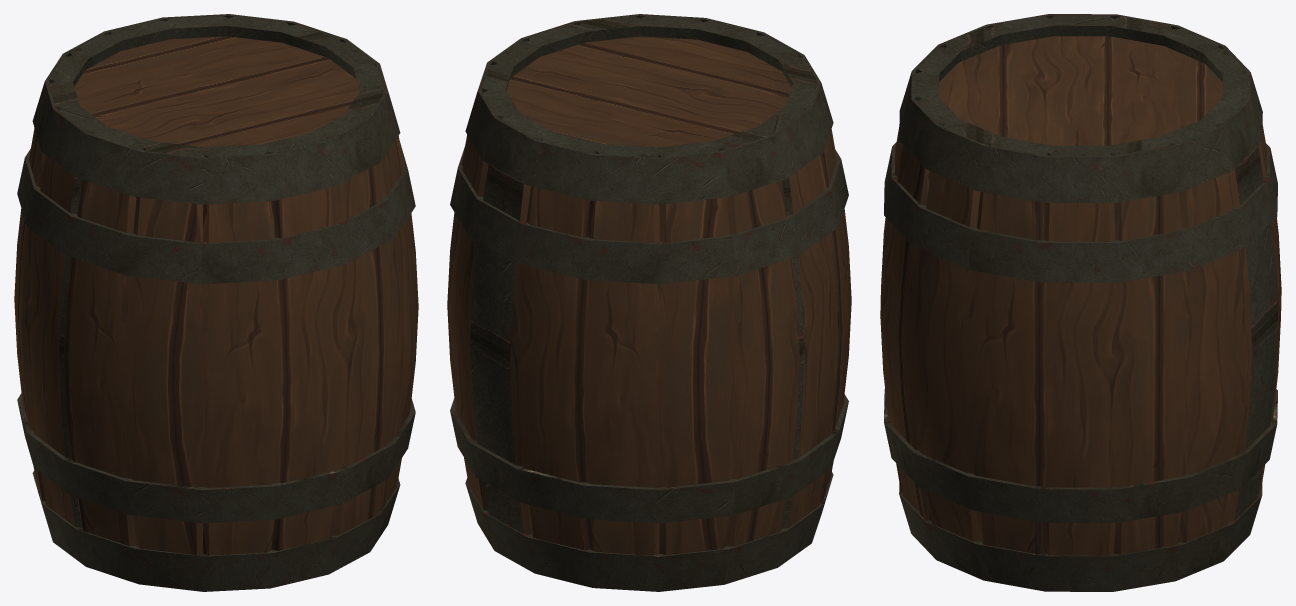
Rendered from Barrel.glb.
3 views of the same model, side by side, from view 1: azimuth 30°, elevation 25°; view 2: azimuth 150°, elevation 25°; view 3: azimuth 270°, elevation 25° (orthographic).
Parts seen in each view (by area): view 1: Barrel; view 2: Barrel; view 3: Barrel.
Boxes of the visible parts, bbox=[...] form: Barrel: bbox=[14, 14, 418, 591]; Barrel: bbox=[447, 14, 851, 591]; Barrel: bbox=[880, 14, 1281, 591].
Bounding box in the file's own units: 0.8888 × 1.06 × 0.8888.
3 materials, 3 textured.
